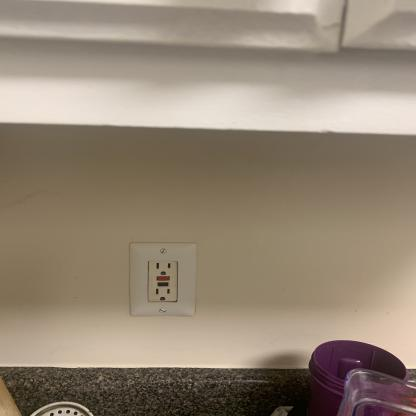OUTLET: (129, 241, 196, 316)
